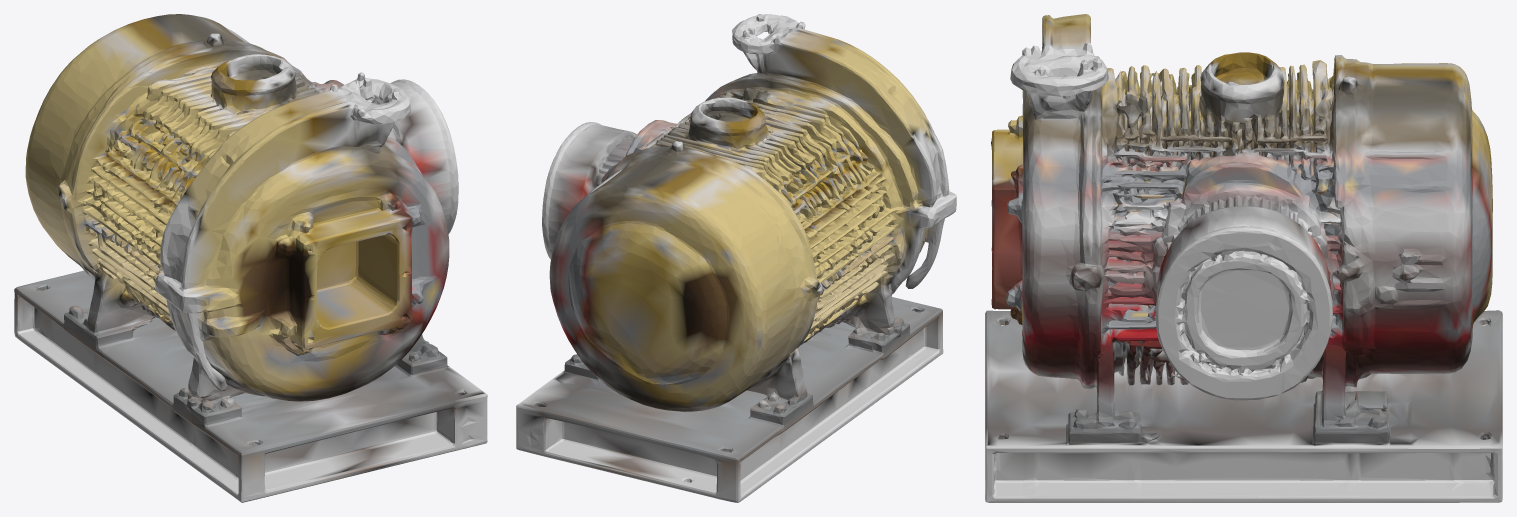
Rendered from machine.glb.
The picture shows the model from 3 angles, left to right: view 1: azimuth 30°, elevation 25°; view 2: azimuth 150°, elevation 25°; view 3: azimuth 270°, elevation 25°; orthographic projection. The views are drawn at different scales.
Visible parts, largest first — view 1: tmpn0zb9vlv.ply; view 2: tmpn0zb9vlv.ply; view 3: tmpn0zb9vlv.ply.
Boxes of the visible parts, left/top/right/bottom form: tmpn0zb9vlv.ply: left=14, top=14, right=487, bottom=502; tmpn0zb9vlv.ply: left=516, top=14, right=956, bottom=502; tmpn0zb9vlv.ply: left=985, top=14, right=1502, bottom=502.
Bounding box in the file's own units: 1.67 × 1.71 × 1.99.
